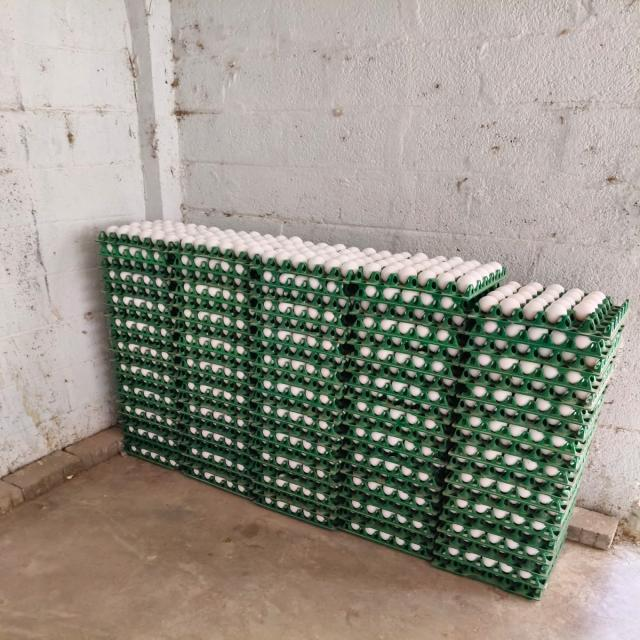egg_tray: (253, 254, 354, 527), (99, 222, 180, 463), (254, 326, 343, 528), (253, 254, 353, 421), (445, 416, 590, 529), (254, 236, 503, 299), (442, 441, 583, 548), (447, 420, 591, 522), (461, 333, 621, 423), (172, 238, 251, 418), (434, 496, 568, 598), (459, 351, 614, 439), (468, 282, 628, 366), (457, 352, 610, 435), (439, 485, 570, 575), (254, 350, 341, 484), (347, 370, 452, 481), (349, 314, 459, 417), (177, 344, 252, 494), (252, 404, 341, 526), (98, 220, 261, 286), (471, 282, 628, 350), (341, 452, 438, 558), (356, 254, 505, 319), (349, 314, 460, 399), (444, 458, 583, 525), (253, 424, 341, 528), (254, 236, 381, 308), (348, 328, 459, 410), (253, 354, 343, 455), (449, 429, 588, 494), (343, 443, 443, 533), (249, 234, 375, 305), (98, 220, 248, 279), (253, 339, 347, 433), (460, 352, 612, 410), (347, 365, 454, 446), (438, 506, 565, 574), (343, 448, 441, 536), (345, 400, 450, 482), (433, 534, 563, 599), (170, 230, 250, 335), (347, 344, 458, 419), (456, 386, 604, 442), (253, 324, 347, 412), (462, 320, 621, 372), (461, 350, 614, 404), (344, 407, 447, 487), (463, 320, 620, 372), (107, 309, 175, 428), (254, 324, 346, 411), (252, 418, 341, 507), (252, 398, 341, 486), (443, 482, 576, 539), (178, 393, 252, 494), (441, 497, 567, 556), (116, 354, 181, 468), (445, 467, 575, 523), (457, 384, 604, 433), (460, 367, 612, 414), (253, 256, 352, 328), (253, 391, 342, 470), (253, 447, 339, 528), (342, 464, 438, 536), (360, 251, 505, 298), (110, 329, 177, 430), (253, 271, 352, 339), (354, 273, 481, 325), (432, 544, 548, 600), (432, 544, 547, 600), (105, 269, 173, 363), (342, 465, 439, 530), (249, 234, 375, 284), (346, 362, 455, 419), (455, 413, 596, 456), (252, 243, 363, 297), (255, 344, 348, 408), (116, 355, 180, 448), (110, 318, 175, 409), (253, 310, 348, 372), (169, 227, 250, 299), (164, 224, 252, 288), (340, 499, 433, 559), (253, 322, 347, 381), (340, 500, 434, 559), (345, 411, 450, 463), (252, 370, 347, 427), (176, 358, 252, 429), (176, 353, 253, 420), (253, 369, 347, 423), (344, 437, 446, 486), (170, 246, 251, 307), (253, 472, 339, 529), (355, 285, 468, 328), (345, 398, 454, 442), (175, 300, 251, 363), (175, 296, 251, 357), (354, 314, 459, 358), (238, 232, 353, 272), (354, 296, 466, 337), (252, 297, 353, 342), (346, 373, 454, 414), (117, 373, 180, 443), (254, 367, 347, 414), (253, 461, 340, 511), (348, 342, 458, 381), (347, 358, 457, 397), (252, 439, 342, 486), (181, 408, 250, 469), (345, 400, 453, 438), (179, 396, 252, 452), (257, 296, 352, 339), (252, 268, 354, 308), (183, 437, 253, 495), (101, 261, 173, 317), (166, 223, 260, 264), (110, 332, 177, 389), (106, 308, 174, 364), (254, 419, 342, 462), (253, 298, 352, 336), (255, 462, 340, 506), (170, 245, 251, 291), (252, 399, 346, 438), (172, 271, 251, 316), (253, 489, 338, 529), (252, 323, 346, 358), (101, 259, 172, 305), (98, 239, 167, 286), (179, 408, 253, 451), (105, 302, 174, 348), (177, 374, 252, 416), (117, 380, 177, 432), (175, 346, 253, 386), (175, 359, 254, 398), (97, 220, 185, 255), (255, 350, 349, 382), (175, 333, 252, 372), (105, 294, 174, 337), (97, 232, 167, 274), (181, 457, 252, 498), (174, 283, 251, 320), (98, 226, 165, 268), (178, 380, 251, 418), (120, 416, 182, 460), (175, 281, 250, 314), (176, 325, 251, 357), (101, 262, 169, 296), (174, 307, 251, 337), (123, 432, 182, 469), (110, 329, 174, 363), (101, 258, 168, 290), (115, 355, 176, 390), (107, 289, 172, 320), (106, 313, 175, 340), (207, 260, 247, 279), (197, 349, 237, 366), (475, 469, 516, 484), (495, 531, 529, 546), (451, 442, 475, 461), (212, 299, 239, 314), (256, 478, 281, 493), (182, 378, 212, 390), (211, 477, 233, 490), (366, 507, 386, 517), (140, 252, 158, 261), (470, 522, 485, 532), (167, 454, 179, 466), (265, 278, 283, 286), (215, 344, 228, 354), (393, 437, 403, 450), (302, 308, 317, 316), (198, 304, 214, 311), (365, 265, 377, 272), (421, 293, 430, 302), (385, 462, 395, 470), (276, 324, 289, 330), (462, 466, 473, 473), (197, 469, 209, 475), (204, 273, 212, 282), (396, 518, 406, 525), (410, 310, 424, 315), (319, 374, 329, 381), (295, 281, 305, 288), (281, 487, 294, 492), (237, 485, 245, 493), (295, 354, 303, 362), (233, 350, 243, 356), (362, 316, 373, 321), (536, 556, 547, 561), (398, 518, 407, 524), (360, 322, 369, 328), (444, 553, 457, 557), (558, 408, 565, 415), (278, 501, 285, 508), (297, 326, 305, 332), (202, 384, 210, 390), (539, 461, 545, 469), (305, 338, 310, 347), (260, 301, 269, 306), (491, 280, 497, 287), (189, 348, 196, 354), (127, 272, 134, 278), (530, 543, 538, 548), (223, 242, 233, 246), (189, 432, 199, 436), (432, 394, 437, 402), (465, 401, 473, 406), (263, 473, 271, 478), (273, 322, 282, 326), (167, 440, 173, 446), (465, 301, 471, 307), (321, 393, 327, 399), (486, 448, 495, 452), (268, 486, 274, 492), (383, 267, 390, 272), (562, 438, 569, 443), (239, 460, 244, 467), (372, 405, 379, 410), (449, 501, 454, 507), (383, 319, 393, 322), (271, 360, 276, 366), (450, 473, 457, 477), (419, 436, 426, 440), (219, 280, 226, 284), (615, 334, 619, 341), (324, 290, 331, 294), (415, 520, 422, 524), (230, 292, 239, 295), (390, 352, 393, 361), (349, 247, 358, 250), (317, 427, 322, 432), (527, 430, 532, 435), (367, 363, 372, 368), (351, 248, 359, 251), (531, 551, 535, 557), (252, 270, 258, 274), (241, 296, 245, 302), (317, 284, 321, 290), (487, 562, 494, 565), (366, 310, 373, 313), (118, 323, 122, 328), (452, 490, 456, 495), (500, 342, 505, 346), (535, 431, 541, 434), (357, 428, 363, 431), (552, 331, 561, 333), (265, 318, 269, 322), (220, 289, 228, 291), (333, 251, 337, 255), (257, 466, 261, 470), (193, 470, 196, 475), (525, 485, 530, 488), (257, 247, 260, 252), (548, 436, 553, 439), (199, 344, 204, 347), (354, 407, 359, 410), (148, 307, 153, 310), (332, 341, 337, 344), (443, 316, 450, 318), (276, 303, 283, 305), (378, 407, 381, 411), (453, 476, 457, 479), (389, 438, 391, 444), (330, 401, 334, 404), (293, 320, 297, 323), (197, 264, 203, 266), (382, 434, 386, 437), (327, 363, 331, 366), (526, 550, 529, 554), (366, 367, 372, 369), (392, 352, 396, 355), (497, 480, 502, 482), (221, 292, 223, 297), (296, 305, 301, 307), (426, 328, 429, 331), (407, 356, 410, 359), (323, 514, 326, 517), (335, 258, 338, 261), (265, 318, 268, 321), (296, 308, 299, 311), (408, 448, 412, 450), (207, 479, 211, 481), (190, 358, 194, 360), (227, 434, 231, 436), (337, 302, 339, 306), (238, 272, 242, 274), (265, 236, 269, 238), (319, 247, 323, 249), (317, 329, 321, 331), (404, 413, 406, 417), (245, 420, 247, 424), (201, 278, 204, 280), (239, 442, 242, 444), (483, 288, 486, 290), (129, 390, 132, 392), (166, 330, 168, 333), (388, 324, 391, 326), (450, 468, 452, 471), (101, 232, 103, 235), (268, 318, 271, 320), (527, 436, 530, 438), (541, 570, 543, 573), (605, 356, 608, 358), (208, 331, 211, 333), (615, 345, 617, 348), (174, 225, 177, 227), (270, 487, 272, 490), (320, 444, 323, 446), (319, 344, 321, 347), (450, 316, 453, 318), (239, 469, 242, 471), (134, 269, 139, 270), (225, 343, 230, 344), (189, 365, 193, 366), (500, 334, 502, 336), (536, 431, 538, 433), (514, 576, 516, 578), (501, 487, 505, 488), (409, 378, 411, 380), (235, 247, 237, 249), (370, 507, 372, 509), (554, 483, 556, 485), (470, 473, 472, 475), (234, 314, 236, 316), (418, 448, 420, 450), (525, 355, 527, 357), (365, 250, 369, 251), (362, 409, 364, 411), (313, 354, 317, 355), (324, 302, 326, 304), (170, 236, 172, 238), (616, 342, 618, 344), (403, 354, 407, 355), (527, 458, 531, 459), (312, 283, 316, 284), (320, 340, 322, 342), (307, 336, 311, 337), (290, 513, 294, 514), (396, 467, 400, 468), (325, 290, 327, 292), (567, 413, 569, 415), (454, 554, 457, 555), (567, 414, 570, 415), (199, 336, 202, 337), (204, 301, 207, 302), (154, 431, 157, 432), (199, 265, 202, 266), (284, 508, 285, 511), (496, 341, 499, 342), (356, 265, 357, 268), (310, 287, 313, 288), (558, 442, 560, 443), (528, 434, 530, 435), (409, 449, 411, 450), (404, 438, 406, 439), (191, 364, 192, 366), (196, 292, 198, 293), (202, 290, 203, 292), (222, 287, 224, 288), (347, 445, 349, 446), (132, 380, 134, 381), (211, 429, 213, 430), (270, 411, 271, 413), (332, 403, 334, 404), (292, 427, 294, 428), (324, 246, 326, 247), (375, 467, 377, 468), (356, 325, 357, 326), (258, 476, 259, 477), (300, 345, 301, 346), (218, 361, 219, 362), (235, 313, 236, 314), (227, 294, 228, 295), (390, 447, 391, 448), (615, 344, 616, 345), (347, 285, 348, 286), (162, 234, 163, 235), (307, 518, 308, 519), (285, 510, 286, 511), (416, 416, 417, 417), (374, 467, 375, 468), (342, 333, 343, 334), (347, 263, 348, 264), (505, 354, 507, 354), (230, 364, 230, 365), (372, 414, 372, 416), (190, 274, 192, 274), (481, 554, 482, 554), (472, 552, 472, 552), (443, 550, 443, 550), (494, 479, 494, 479), (452, 259, 453, 259), (258, 234, 258, 235), (158, 328, 159, 328), (274, 418, 275, 418), (481, 527, 481, 528), (178, 296, 178, 297), (314, 327, 314, 328), (465, 417, 466, 417), (352, 434, 352, 434), (360, 370, 361, 370), (240, 312, 241, 312), (188, 292, 190, 292), (201, 278, 201, 282), (222, 266, 223, 266), (351, 528, 352, 528), (421, 463, 423, 463), (373, 432, 380, 432), (363, 256, 363, 257), (576, 436, 577, 436), (452, 371, 452, 372), (389, 350, 390, 350), (212, 228, 214, 228), (279, 412, 281, 412), (183, 300, 183, 301), (166, 434, 168, 434), (547, 361, 547, 361), (294, 436, 294, 437), (503, 454, 511, 454), (407, 254, 407, 254), (257, 252, 257, 252), (272, 472, 273, 472), (257, 410, 257, 412), (446, 418, 446, 418), (410, 411, 410, 413), (405, 467, 405, 468), (341, 332, 341, 332), (292, 310, 292, 310), (205, 456, 205, 457)
